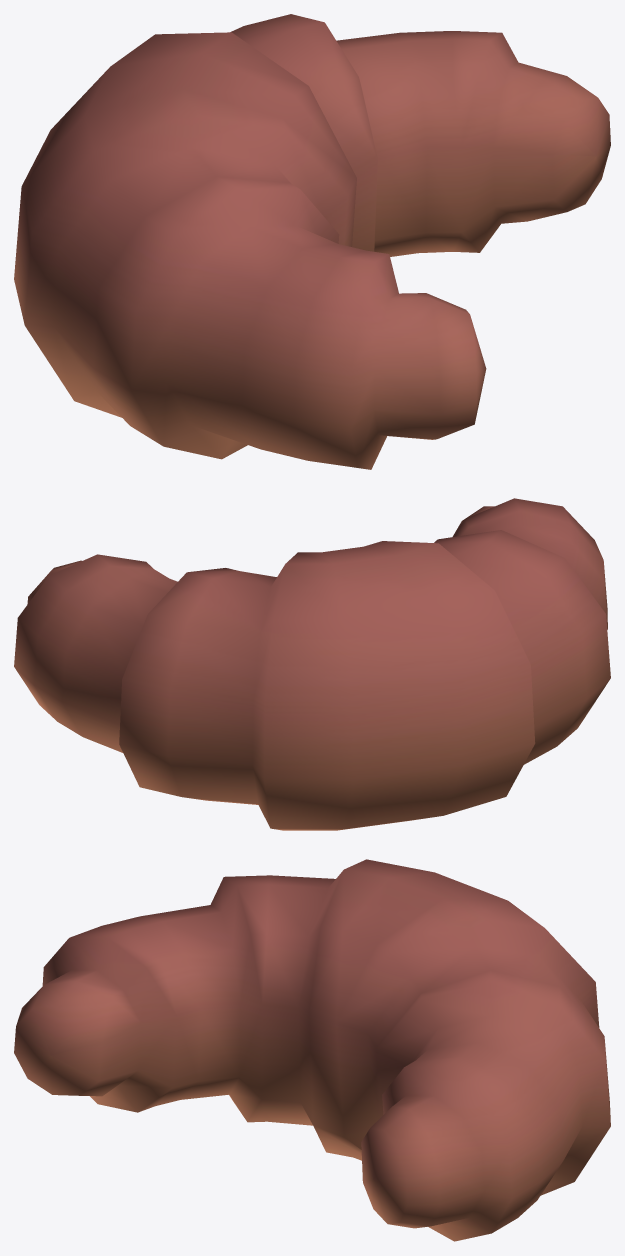
Rendered from Croissant.fbx.
3 renders of one model, top to bottom at view 1: azimuth 30°, elevation 25°; view 2: azimuth 150°, elevation 25°; view 3: azimuth 270°, elevation 25°, orthographic. The views are drawn at different scales.
Parts seen in each view (by area): view 1: Croissant; view 2: Croissant; view 3: Croissant.
Part boxes in pixels (x1,y1,x2,y2): Croissant: [14, 14, 610, 469]; Croissant: [14, 498, 610, 830]; Croissant: [14, 859, 610, 1241].
Size of the model in its own units: 33.11 by 16.65 by 33.61.
